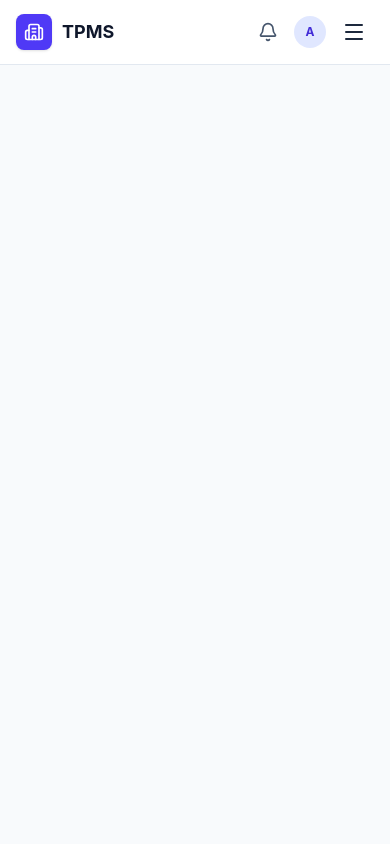
Test case: RootLayout Component - Mobile Responsive Navigation › toggles mobile dropdown menu when hamburger button is clicked
Check: the text "management & operations" is not shown
// Click to open mobile dropdown menu
Click the button named "open navigation menu" at (354, 32), box x1=334 y1=12 x2=374 y2=52
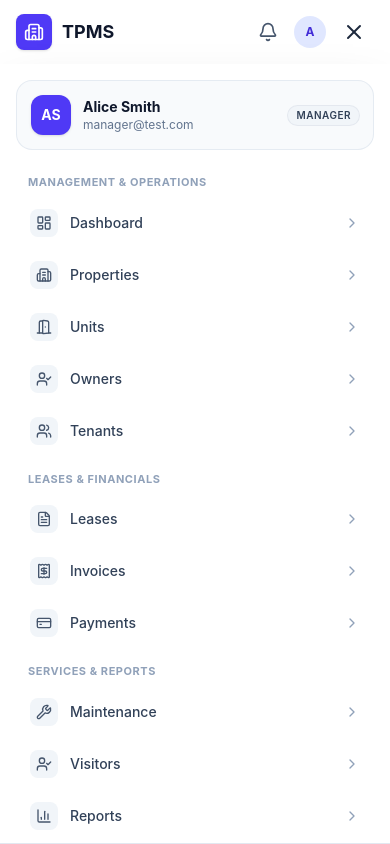
Check: the text "Management & Operations" is shown, box x1=28 y1=175 x2=207 y2=189
Check: the text "Leases & Financials" is shown, box x1=28 y1=472 x2=160 y2=486
Check: the button named "close navigation menu" is shown
// Click to close
Click the button named "close navigation menu" at (354, 32), box x1=334 y1=12 x2=374 y2=52
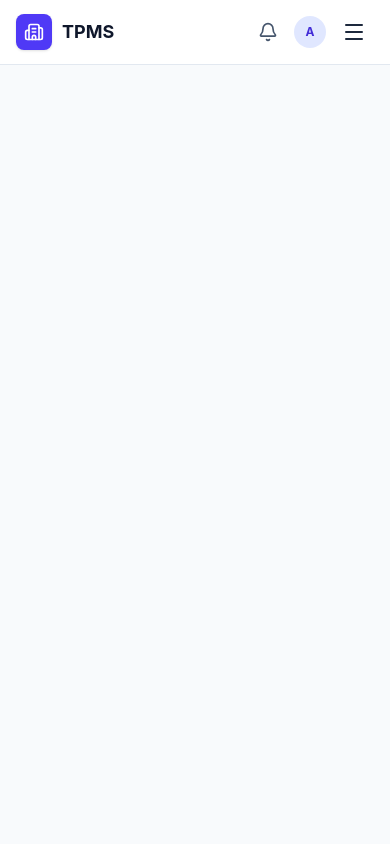
Check: the text "Management & Operations" is gone
